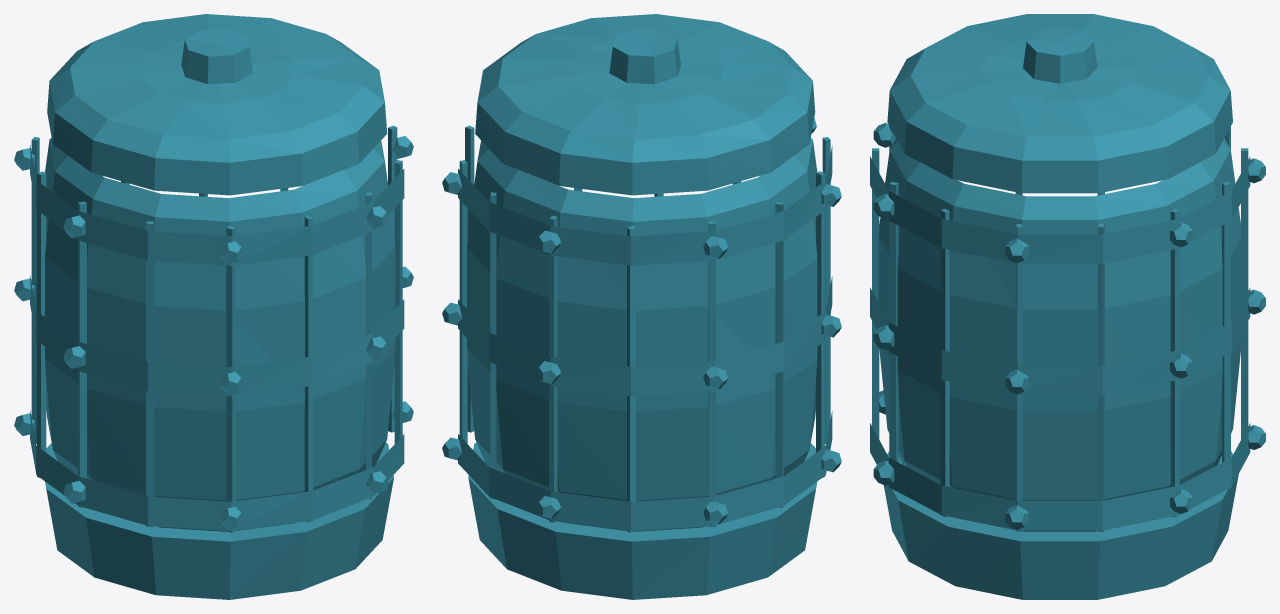
Rendered from Water-Barrel.glb.
3 views of the same model, side by side, from view 1: azimuth 30°, elevation 25°; view 2: azimuth 150°, elevation 25°; view 3: azimuth 270°, elevation 25° (orthographic).
Parts seen in each view (by area): view 1: water-barrel-static-water-barrel-warm-wood-mat, water-barrel-static-water-barrel-charcoal-hoop-mat, water-barrel-static-water-barrel-end-grain-mat, water-barrel-static-water-barrel-bung-mat; view 2: water-barrel-static-water-barrel-warm-wood-mat, water-barrel-static-water-barrel-charcoal-hoop-mat, water-barrel-static-water-barrel-end-grain-mat, water-barrel-static-water-barrel-bung-mat; view 3: water-barrel-static-water-barrel-warm-wood-mat, water-barrel-static-water-barrel-charcoal-hoop-mat, water-barrel-static-water-barrel-end-grain-mat, water-barrel-static-water-barrel-bung-mat.
Boxes of the visible parts, <box> form: water-barrel-static-water-barrel-warm-wood-mat: <box>45,14,395,531</box>; water-barrel-static-water-barrel-charcoal-hoop-mat: <box>14,136,413,599</box>; water-barrel-static-water-barrel-end-grain-mat: <box>31,125,402,532</box>; water-barrel-static-water-barrel-bung-mat: <box>181,29,252,84</box>; water-barrel-static-water-barrel-warm-wood-mat: <box>467,14,817,531</box>; water-barrel-static-water-barrel-charcoal-hoop-mat: <box>442,118,841,599</box>; water-barrel-static-water-barrel-end-grain-mat: <box>459,125,830,532</box>; water-barrel-static-water-barrel-bung-mat: <box>609,29,680,84</box>; water-barrel-static-water-barrel-warm-wood-mat: <box>878,14,1241,531</box>; water-barrel-static-water-barrel-charcoal-hoop-mat: <box>870,122,1265,599</box>; water-barrel-static-water-barrel-end-grain-mat: <box>872,126,1248,532</box>; water-barrel-static-water-barrel-bung-mat: <box>1023,27,1097,83</box>.
Size of the model in its own units: 0.8596 by 1.15 by 0.8472.
